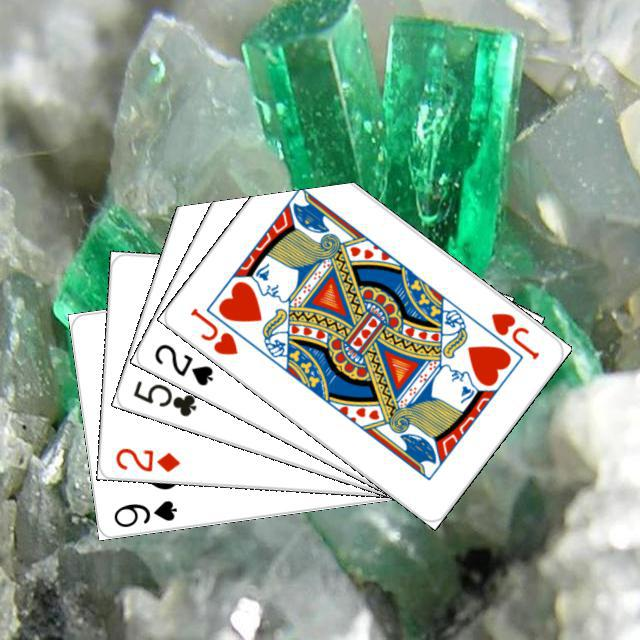2d: (111, 443, 182, 474)
2s: (149, 338, 215, 388)
5c: (128, 375, 199, 419)
9s: (108, 495, 179, 529)
Jh: (486, 307, 541, 362), (185, 303, 240, 357)
